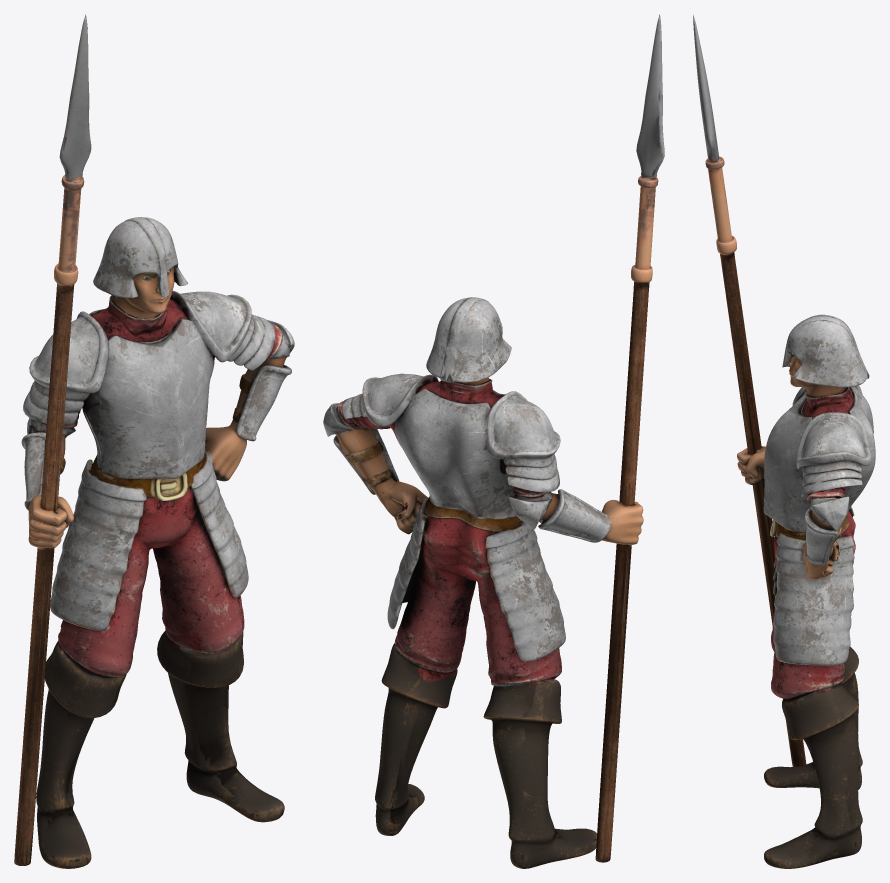
Rendered from MZ4250 - Guard.glb.
3 renders of one model, left to right at view 1: azimuth 30°, elevation 25°; view 2: azimuth 150°, elevation 25°; view 3: azimuth 270°, elevation 25°, orthographic. The views are drawn at different scales.
Visible parts, largest first — view 1: default; view 2: default; view 3: default.
Part boxes in pixels (x1,y1,x2,y2): default: [14, 14, 294, 868]; default: [323, 14, 664, 868]; default: [693, 15, 875, 868].
Size of the model in its own units: 0.5685 by 1.58 by 0.3478.
Materials: 1 (1 with a texture image).
